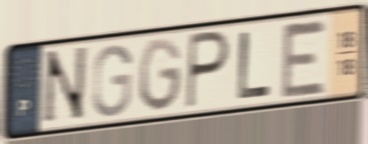E: (279, 17, 329, 101)
G: (137, 35, 185, 115), (90, 42, 135, 120)
L: (235, 28, 274, 103)
N: (38, 43, 90, 129)
P: (183, 27, 232, 112)
